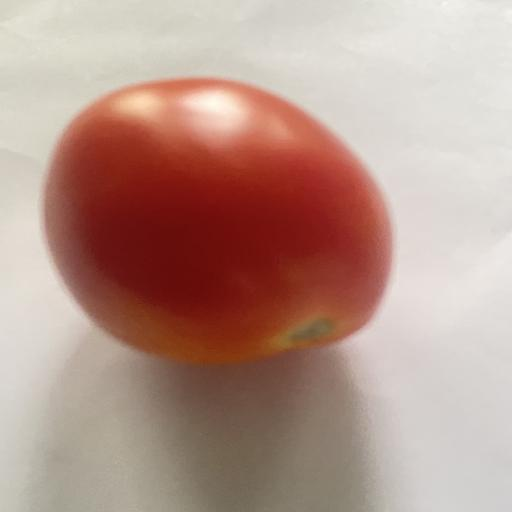ripe: (44, 78, 391, 364)
